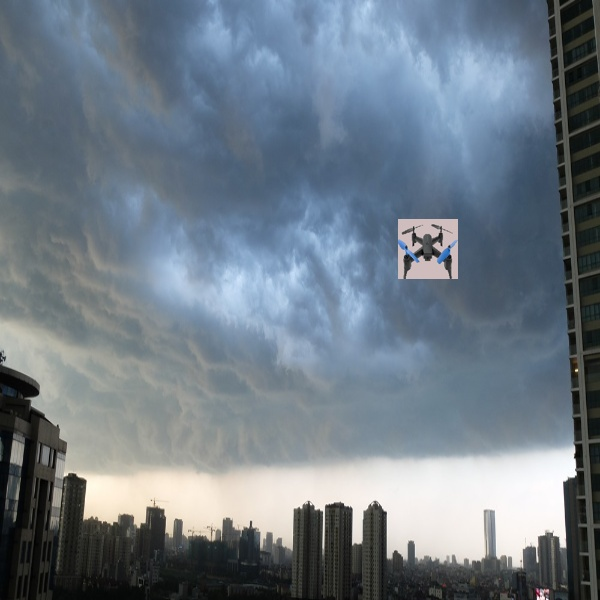drone: (395, 220, 461, 282)
